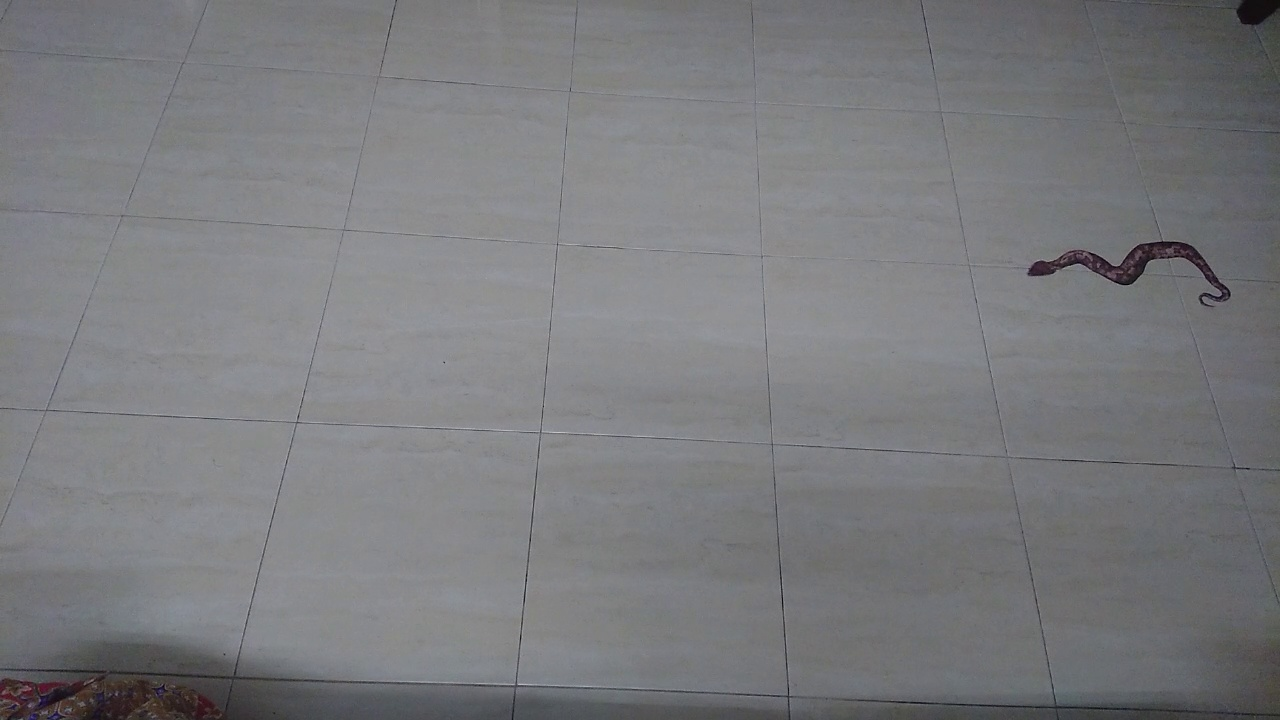snake: (1017, 229, 1238, 319)
